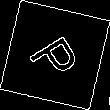P_NE: (24, 26, 86, 84)
